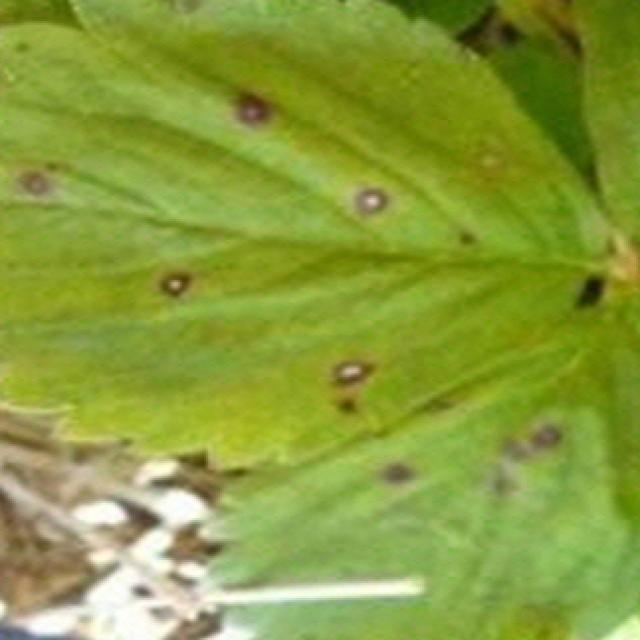Leaf Spot: (0, 0, 619, 473), (197, 279, 640, 640)
